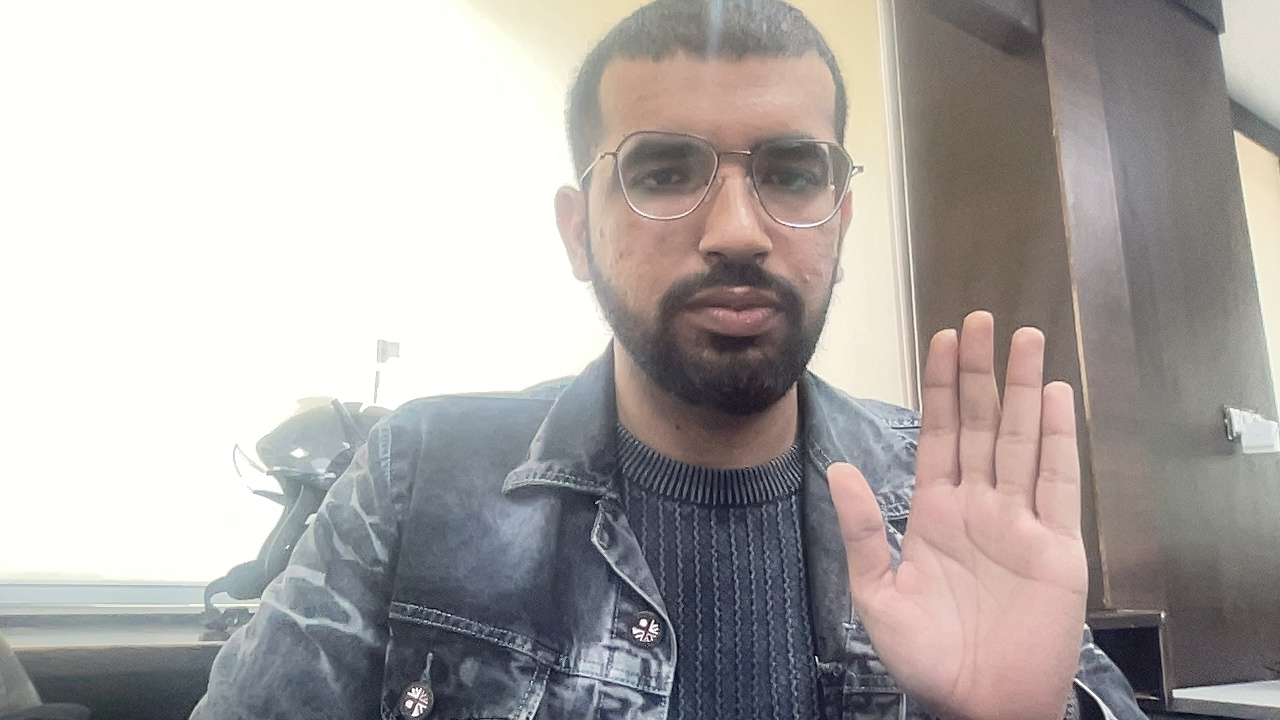Hello: (776, 280, 1116, 720)
